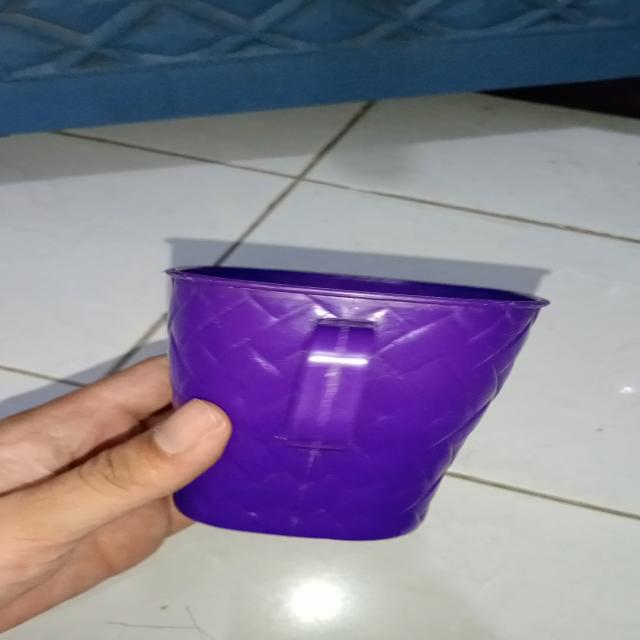gelas bekas: (160, 262, 551, 542)
